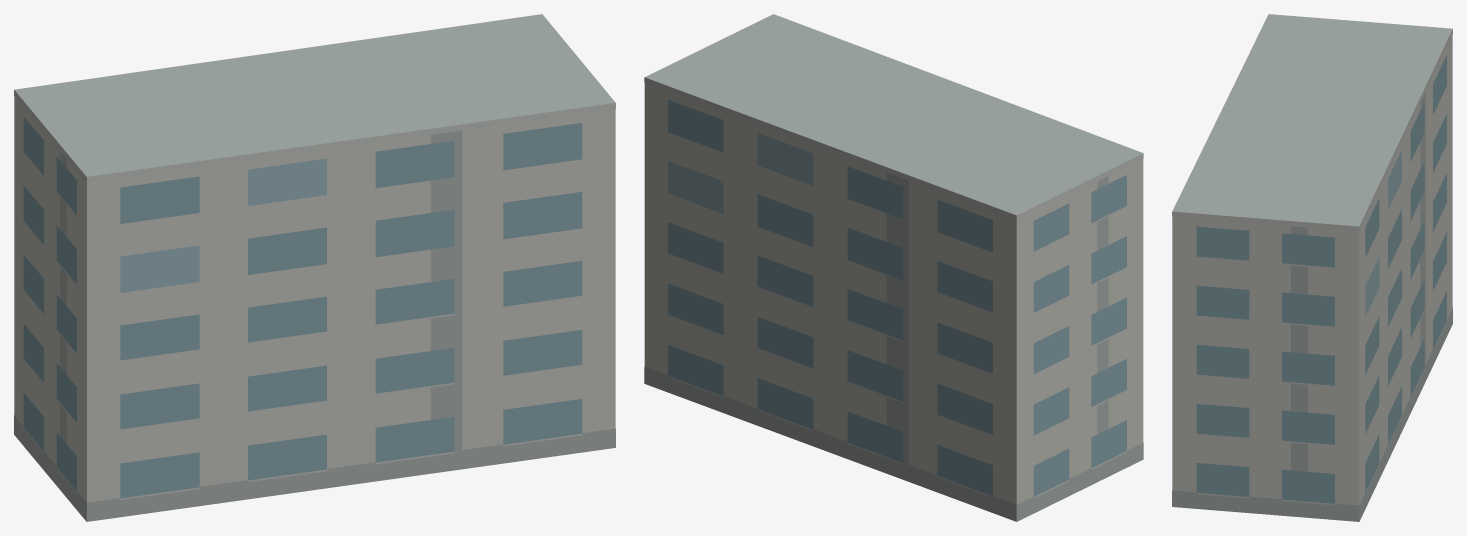
The model's file is survey-upis-32776415.glb.
The picture shows the model from 3 angles, left to right: view 1: azimuth 30°, elevation 25°; view 2: azimuth 150°, elevation 25°; view 3: azimuth 270°, elevation 25°; orthographic projection. The views are drawn at different scales.
Parts seen in each view (by area): view 1: survey-upis-32776415.tmp; view 2: survey-upis-32776415.tmp; view 3: survey-upis-32776415.tmp.
Part boxes in pixels (x1,y1,x2,y2): survey-upis-32776415.tmp: (14, 14, 615, 521); survey-upis-32776415.tmp: (644, 14, 1143, 521); survey-upis-32776415.tmp: (1172, 14, 1452, 521).
Size of the model in its own units: 21.15 by 13.7 by 11.81.
